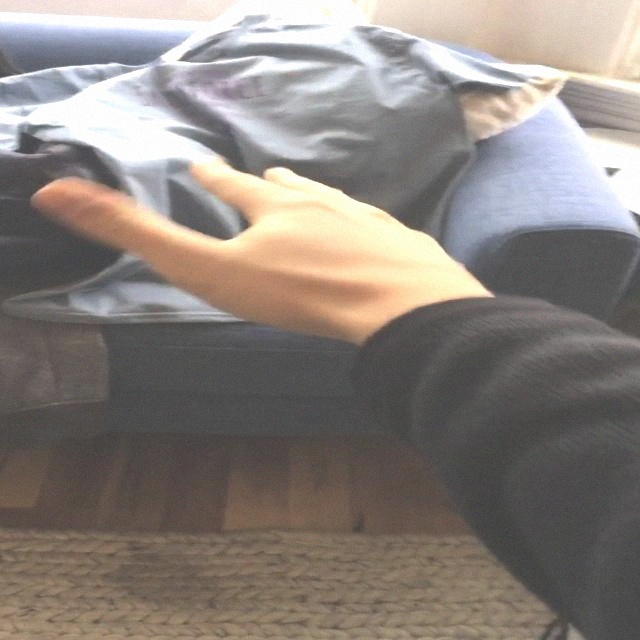Paper: (28, 153, 476, 338)
